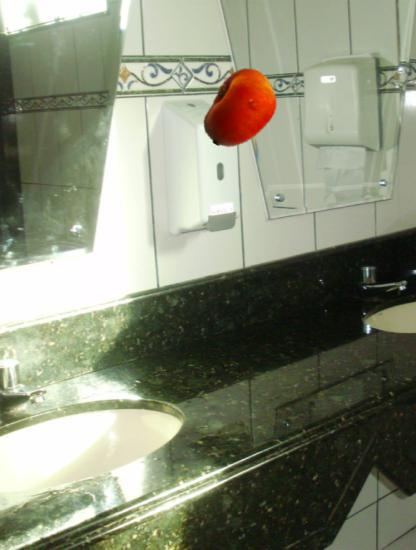Nectarine: (199, 67, 285, 153)
